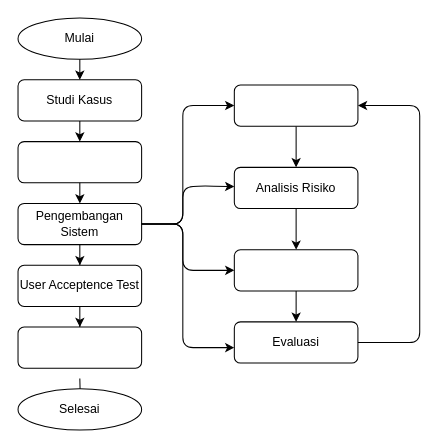
Some shapes in this 446 by 448 pixel diagram are drawn without their labels. Here are the shapes that lost their labels. From the top down, the box of each, then its label:
(233, 84, 358, 126): Perencanaan
(17, 141, 142, 183): Analisis Kebutuhan
(233, 249, 358, 291): Pengembangan
(17, 326, 142, 368): Kesimpulan
